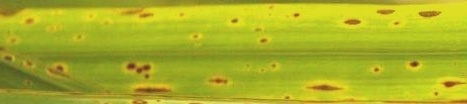Bacterial_Leaf_Blight: (119, 56, 164, 81), (430, 72, 466, 98), (299, 80, 346, 97), (415, 1, 446, 21), (47, 57, 66, 89), (130, 83, 172, 96), (16, 13, 39, 36), (195, 73, 235, 85), (339, 15, 367, 32), (171, 6, 191, 29), (9, 53, 35, 69), (262, 56, 280, 77), (142, 2, 160, 20), (185, 30, 206, 45), (263, 1, 281, 18), (371, 59, 383, 82), (404, 54, 420, 71), (256, 32, 271, 48), (72, 31, 84, 50), (99, 16, 115, 30), (372, 8, 396, 17), (228, 14, 240, 28), (290, 9, 301, 22)
